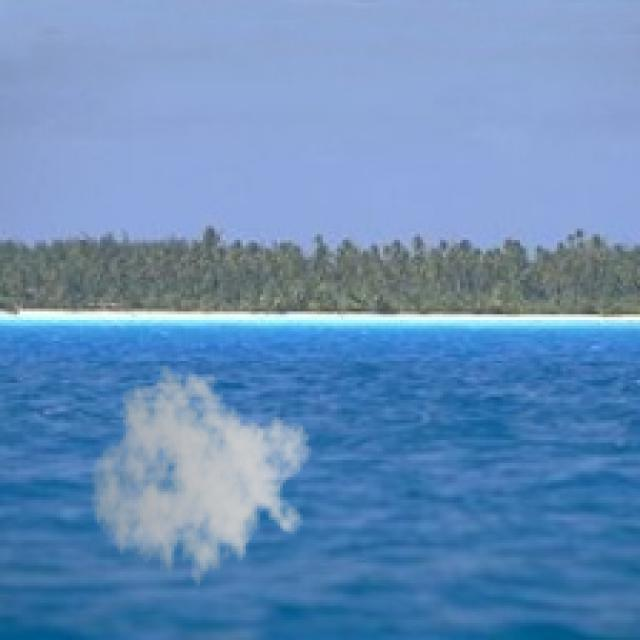Smoke: (88, 363, 312, 600)
